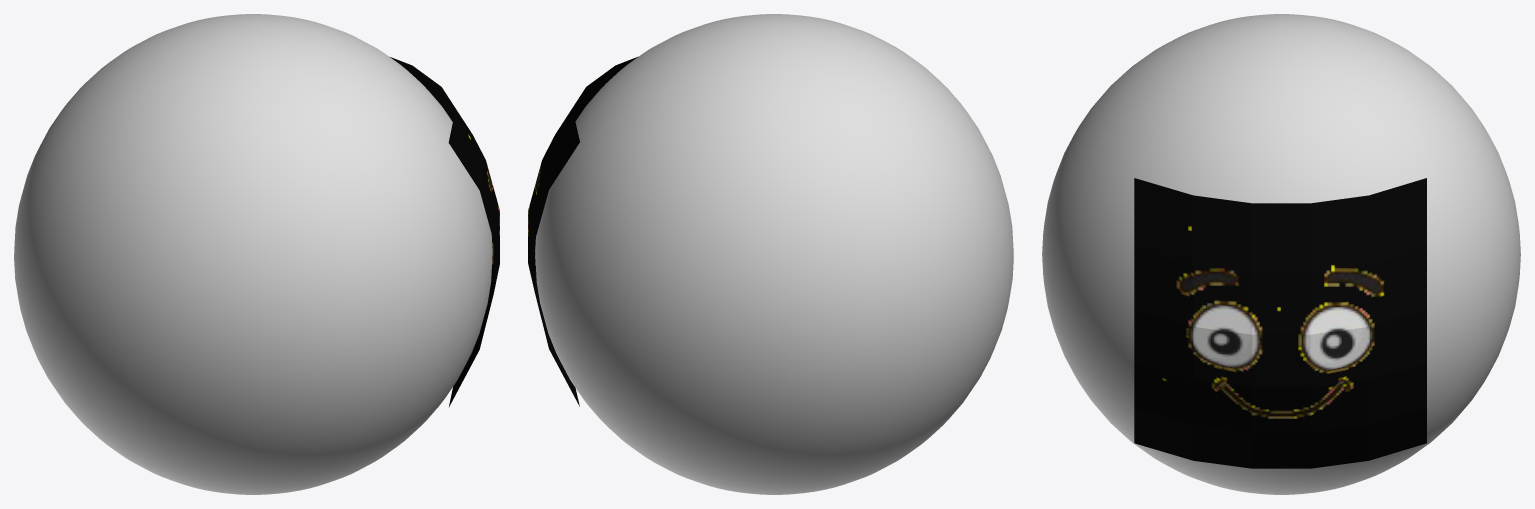
File: Player_Faces.fbx
The picture shows the model from 3 angles, left to right: view 1: azimuth 30°, elevation 25°; view 2: azimuth 150°, elevation 25°; view 3: azimuth 270°, elevation 25°; orthographic projection.
Visible parts, largest first — view 1: Sphere, face00; view 2: Sphere, face00; view 3: Sphere, face00.
Part boxes in pixels (x1,y1,x2,y2): Sphere: (14, 14, 492, 494); face00: (390, 57, 499, 406); Sphere: (535, 14, 1013, 494); face00: (528, 57, 637, 406); Sphere: (1042, 14, 1520, 494); face00: (1134, 178, 1426, 468).
Bounding box in the file's own units: 40.57 × 39.9 × 39.49.
